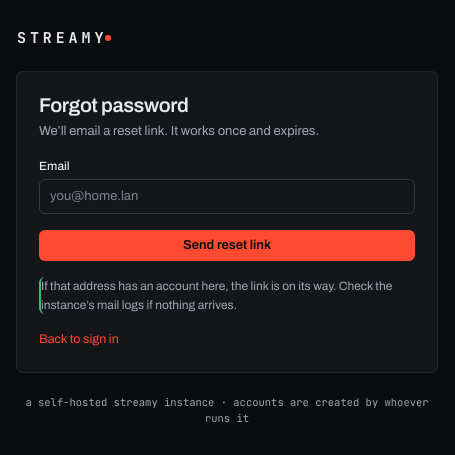
Test: ForgotPassword screen › shows a zod error for an empty email
Click the button "Send reset link". click: {"x": 227, "y": 245}
box: [39,230,415,261]
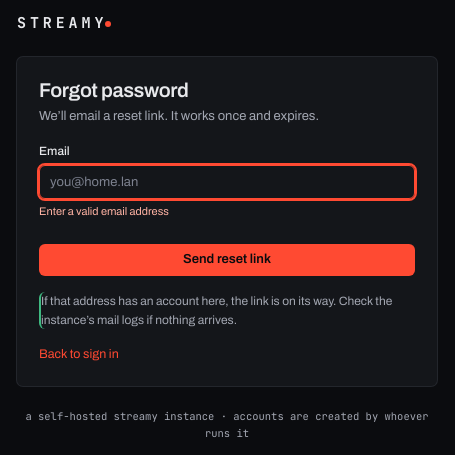
Result: the text "Enter a valid email address" is shown at [39,205,169,217]
